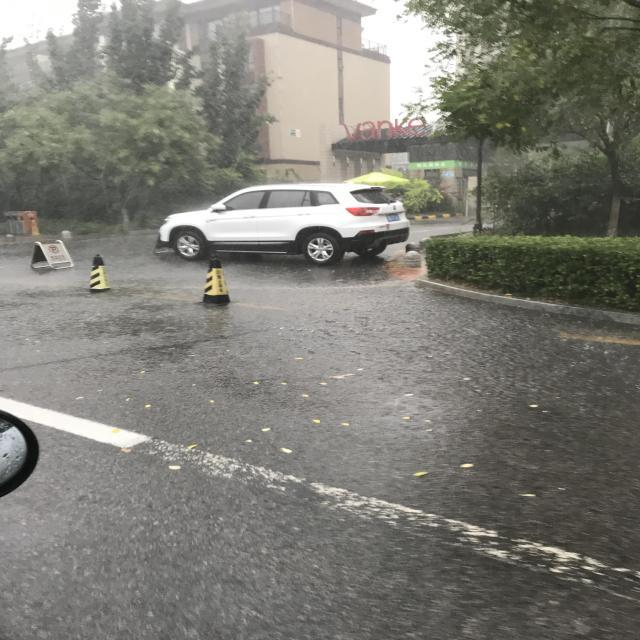car: (184, 228, 266, 482)
